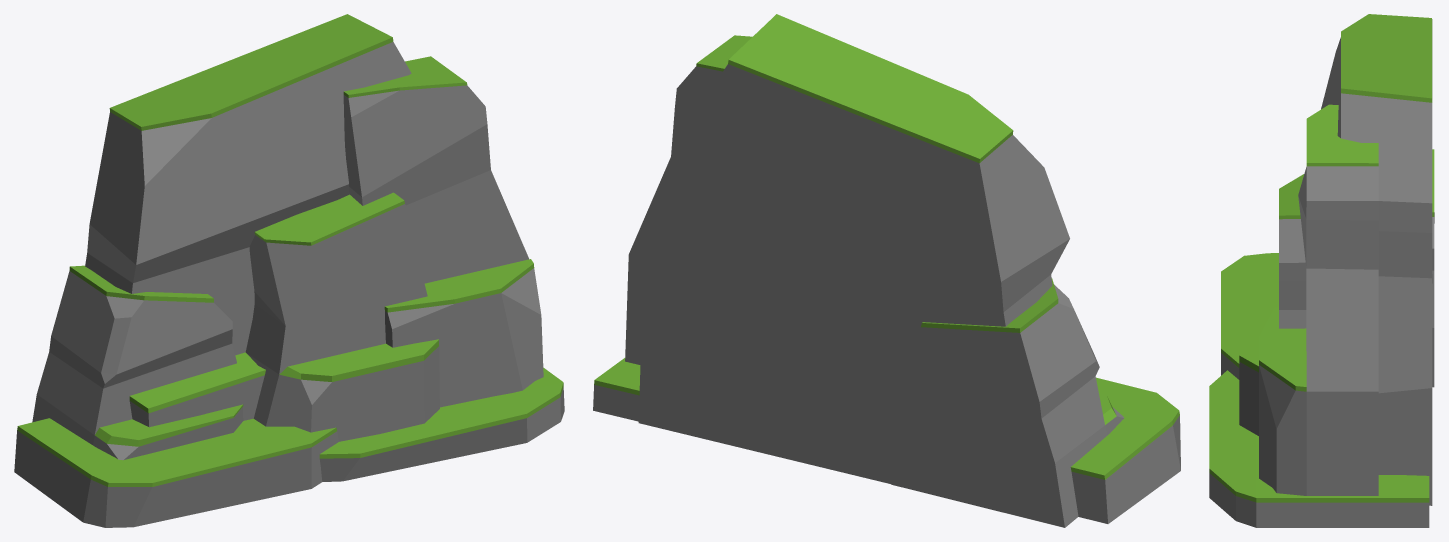
File: SM_Rock_Default.fbx
3 views of the same model, side by side, from view 1: azimuth 30°, elevation 25°; view 2: azimuth 150°, elevation 25°; view 3: azimuth 270°, elevation 25° (orthographic). The views are drawn at different scales.
Parts seen in each view (by area): view 1: Rock; view 2: Rock; view 3: Rock.
Part boxes in pixels (x1,y1,x2,y2): Rock: (14,14,564,527); Rock: (593,14,1180,527); Rock: (1209,14,1434,527).
Bounding box in the file's own units: 1814 × 1365 × 740.
